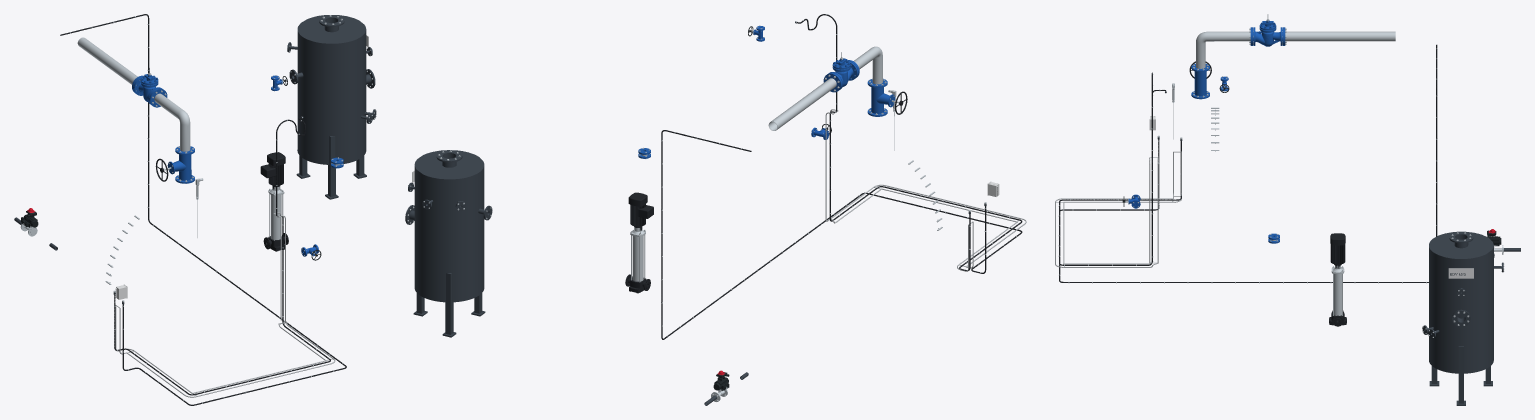
File: s4000-3-Ddu5RDh8.glb
3 renders of one model, left to right at view 1: azimuth 30°, elevation 25°; view 2: azimuth 150°, elevation 25°; view 3: azimuth 270°, elevation 25°, orthographic. The views are drawn at different scales.
Parts seen in each view (by area): view 1: separator_bdv60_5 / dark, mod_direct_drive_cable / black, cables / zinc, wiring_pressure_switch_3 / black, steam_rise / steel, steam_delivery / steel, steam_manual / blue, pump_2 CAD solid 15, gpz CAD solid 0, pump_2 CAD solid 2, bcv7432 / bcv7432_0.npz; view 2: separator_bdv60_5 / dark, mod_direct_drive_cable / black, cables / zinc, wiring_pressure_switch_3 / black, steam_delivery / steel, pump_2 CAD solid 15, steam_manual / blue, steam_rise / steel; view 3: separator_bdv60_5 / dark, cables / zinc, steam_delivery / steel, mod_direct_drive_cable / black, wiring_pressure_switch_3 / black, steam_rise / steel, gpz CAD solid 0, pump_2 CAD solid 15, steam_manual / blue.
Part boxes in pixels (x1,y1,x2,y2): separator_bdv60_5 / dark: [287, 15, 376, 199]; mod_direct_drive_cable / black: [60, 14, 346, 405]; cables / zinc: [115, 212, 335, 397]; wiring_pressure_switch_3 / black: [114, 117, 330, 395]; steam_rise / steel: [154, 93, 190, 151]; steam_delivery / steel: [77, 37, 137, 84]; steam_manual / blue: [167, 146, 194, 183]; pump_2 CAD solid 15: [260, 152, 285, 186]; gpz CAD solid 0: [133, 67, 161, 104]; pump_2 CAD solid 2: [271, 195, 281, 239]; bcv7432 / bcv7432_0.npz: [20, 208, 38, 236]; separator_bdv60_5 / dark: [405, 150, 492, 337]; mod_direct_drive_cable / black: [661, 130, 1022, 339]; cables / zinc: [825, 109, 1026, 271]; wiring_pressure_switch_3 / black: [796, 14, 1022, 270]; steam_delivery / steel: [768, 78, 836, 130]; pump_2 CAD solid 15: [628, 192, 653, 227]; steam_manual / blue: [867, 78, 895, 116]; steam_rise / steel: [853, 46, 882, 84]; separator_bdv60_5 / dark: [1422, 231, 1503, 405]; cables / zinc: [1055, 151, 1181, 267]; steam_delivery / steel: [1285, 31, 1395, 41]; mod_direct_drive_cable / black: [1059, 44, 1437, 282]; wiring_pressure_switch_3 / black: [1059, 72, 1181, 265]; steam_rise / steel: [1196, 31, 1250, 68]; gpz CAD solid 0: [1253, 14, 1282, 46]; pump_2 CAD solid 15: [1330, 233, 1345, 265]; steam_manual / blue: [1191, 63, 1209, 99].
Size of the model in its own units: 5.36 by 3.18 by 5.47.
